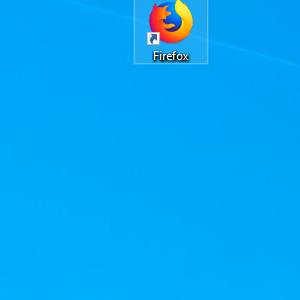firefox: (146, 1, 194, 45)
